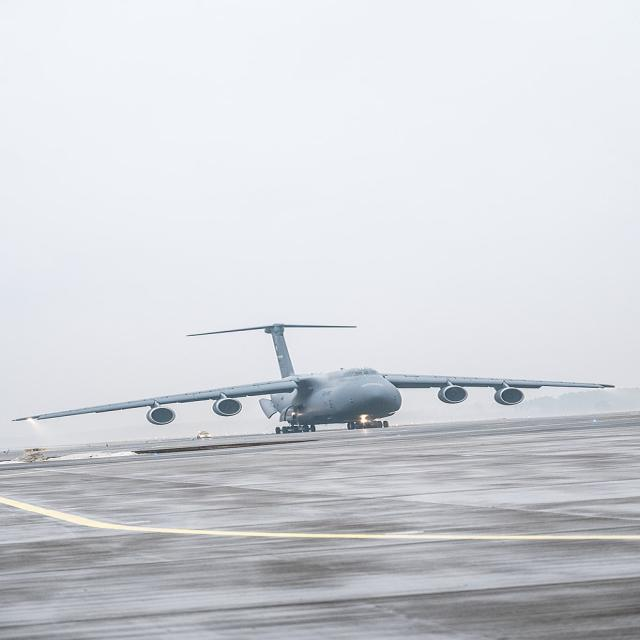MIL_Plane: (0, 322, 569, 435)
